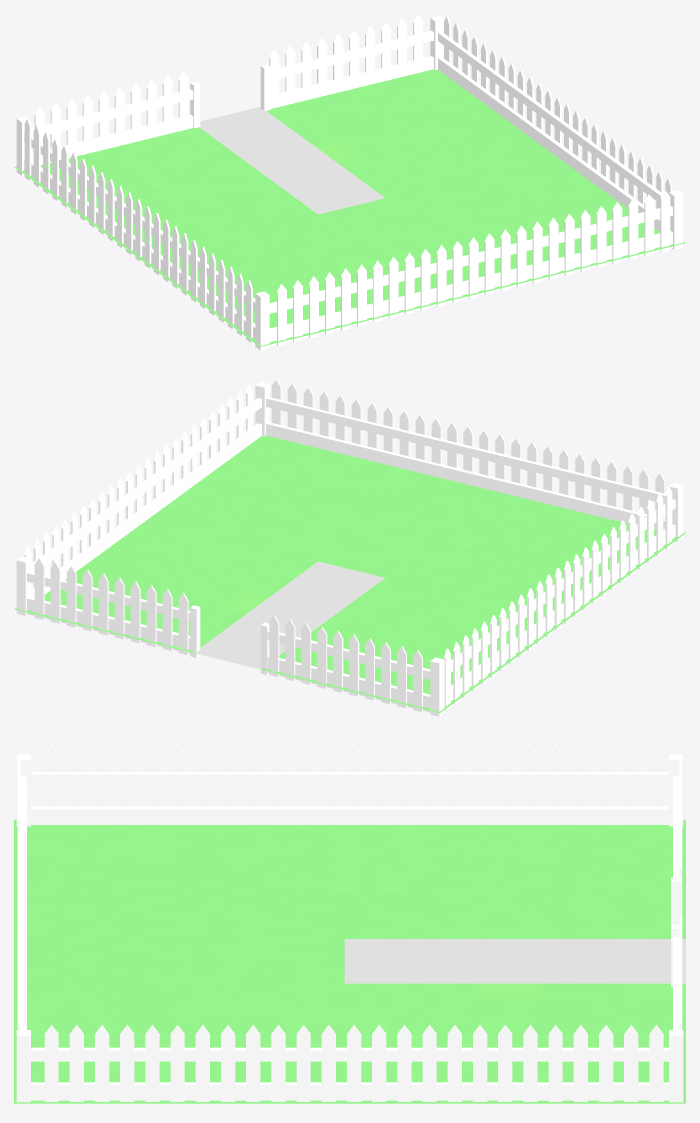
Rendered from tile_for_home_1x1.009.glb.
3 renders of one model, top to bottom at view 1: azimuth 30°, elevation 25°; view 2: azimuth 150°, elevation 25°; view 3: azimuth 270°, elevation 25°, orthographic. The views are drawn at different scales.
Visible parts, largest first — view 1: tile_for_home_1x1.009(Clone); view 2: tile_for_home_1x1.009(Clone); view 3: tile_for_home_1x1.009(Clone).
Boxes of the visible parts, left/top/right/bottom form: tile_for_home_1x1.009(Clone): left=14, top=14, right=685, bottom=350; tile_for_home_1x1.009(Clone): left=14, top=379, right=685, bottom=716; tile_for_home_1x1.009(Clone): left=14, top=745, right=685, bottom=1108.
Size of the model in its own units: 8 by 1.1 by 8.
Materials: 1 (1 with a texture image).
